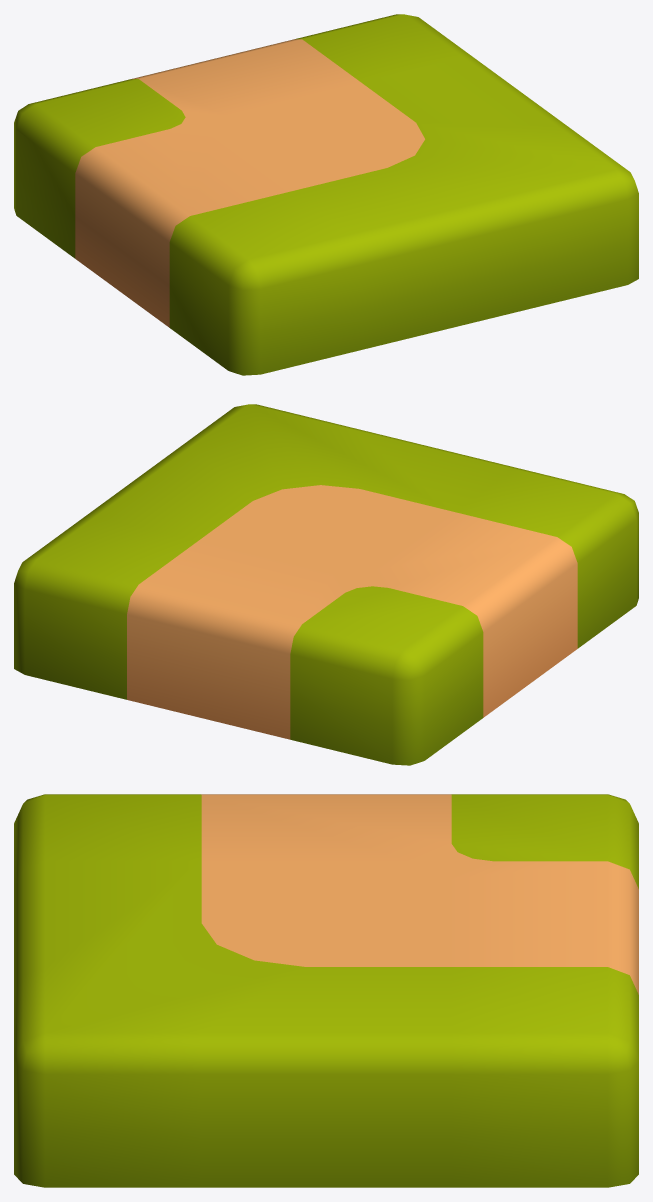
The model's file is 3D_Tile_Top_Path_02.fbx.
3 views of the same model, one above another, from view 1: azimuth 30°, elevation 25°; view 2: azimuth 150°, elevation 25°; view 3: azimuth 270°, elevation 25° (orthographic). The views are drawn at different scales.
Visible parts, largest first — view 1: 3D_Tile_Top_Path_02; view 2: 3D_Tile_Top_Path_02; view 3: 3D_Tile_Top_Path_02.
Boxes of the visible parts, x1,y1,x2,y2 form: 3D_Tile_Top_Path_02: (14,14,638,375); 3D_Tile_Top_Path_02: (14,404,638,765); 3D_Tile_Top_Path_02: (14,794,638,1187).
Size of the model in its own units: 200 by 50 by 200.
